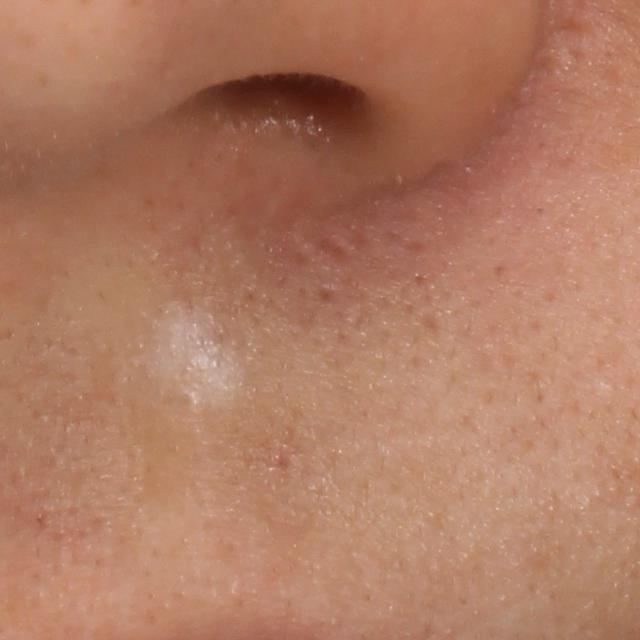atrophic_scar: (302, 226, 354, 260)
other: (146, 285, 257, 413)
